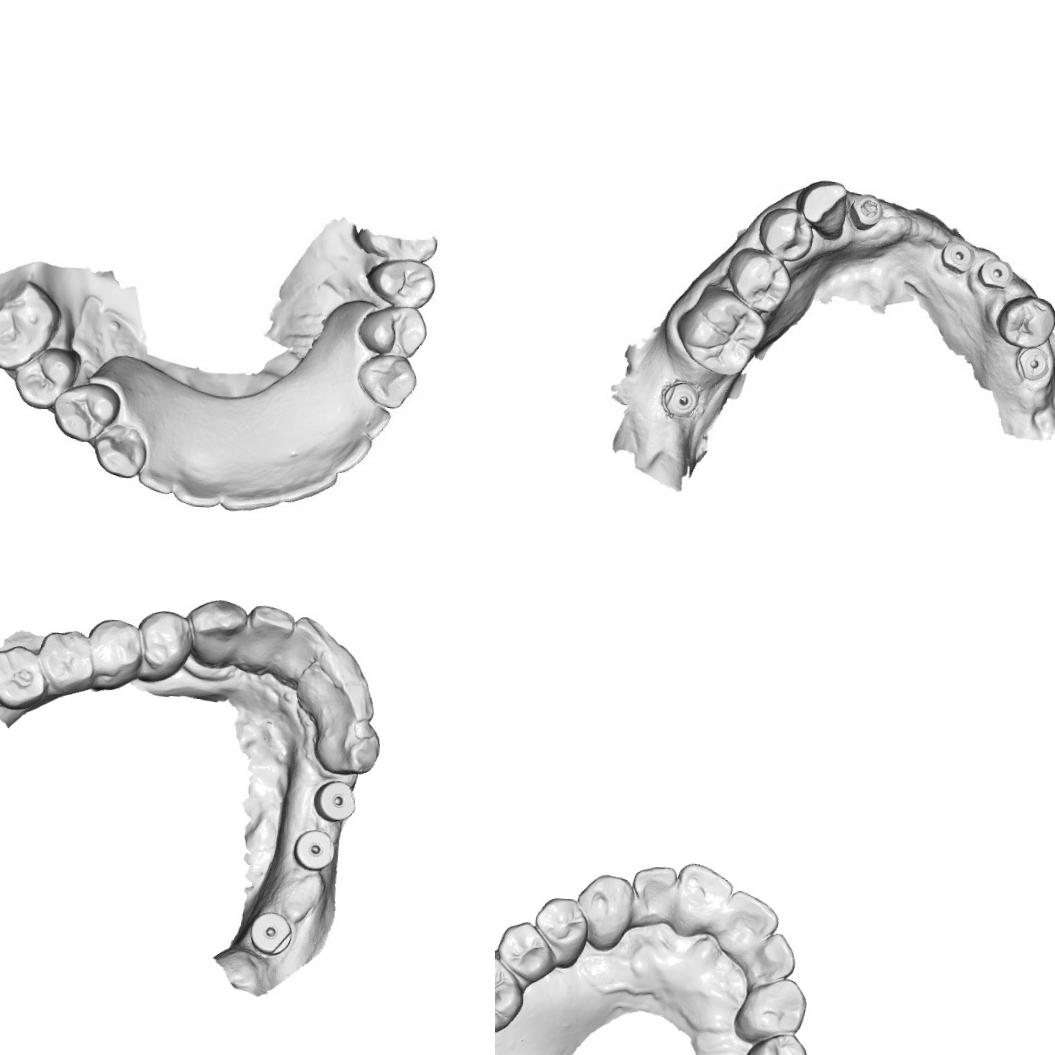canine: (732, 974, 808, 1046), (572, 870, 635, 952), (184, 596, 248, 673), (310, 720, 382, 777), (794, 174, 852, 243), (355, 351, 418, 411), (91, 422, 147, 482)
implant: (245, 907, 293, 956), (312, 778, 360, 824), (291, 824, 336, 873), (660, 376, 700, 419), (940, 240, 975, 274), (852, 194, 882, 229), (980, 258, 1012, 290)
implant_minus: (1014, 342, 1052, 382)
incisor: (270, 612, 333, 682), (298, 637, 364, 701), (238, 602, 296, 672), (311, 671, 378, 731), (673, 860, 734, 914), (629, 863, 678, 925), (724, 886, 780, 938), (754, 930, 799, 979)
molar: (668, 282, 768, 380), (0, 277, 60, 374), (35, 627, 96, 696), (0, 642, 51, 711), (495, 951, 526, 1035)
premolar: (10, 340, 84, 410), (725, 244, 796, 312), (135, 606, 193, 686), (83, 615, 143, 692), (530, 895, 590, 970), (355, 302, 430, 358), (364, 254, 437, 311), (495, 919, 556, 984), (994, 291, 1055, 351), (752, 204, 814, 263), (41, 385, 110, 438), (742, 1030, 808, 1055)
